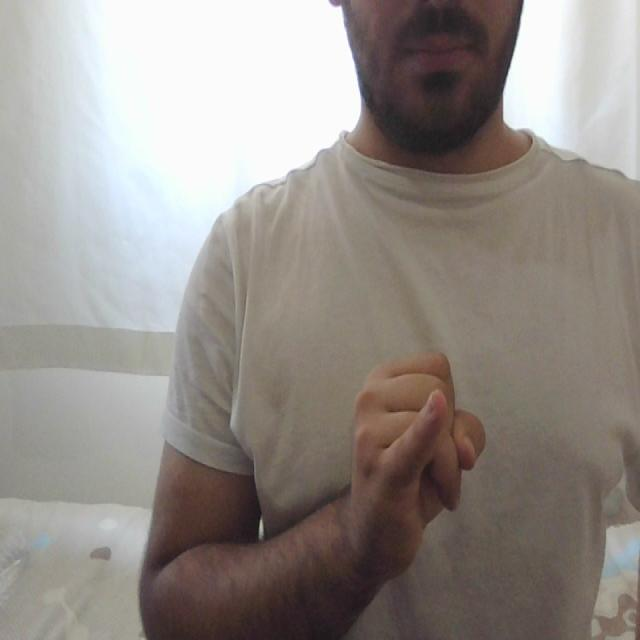kotu: (339, 324, 493, 528)
